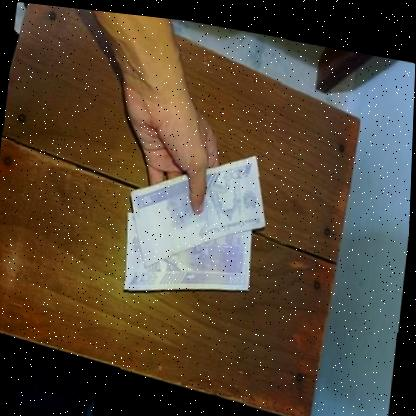ten-back-vef: (124, 129, 275, 282)
two_hundred-back-vef: (120, 208, 257, 308)
